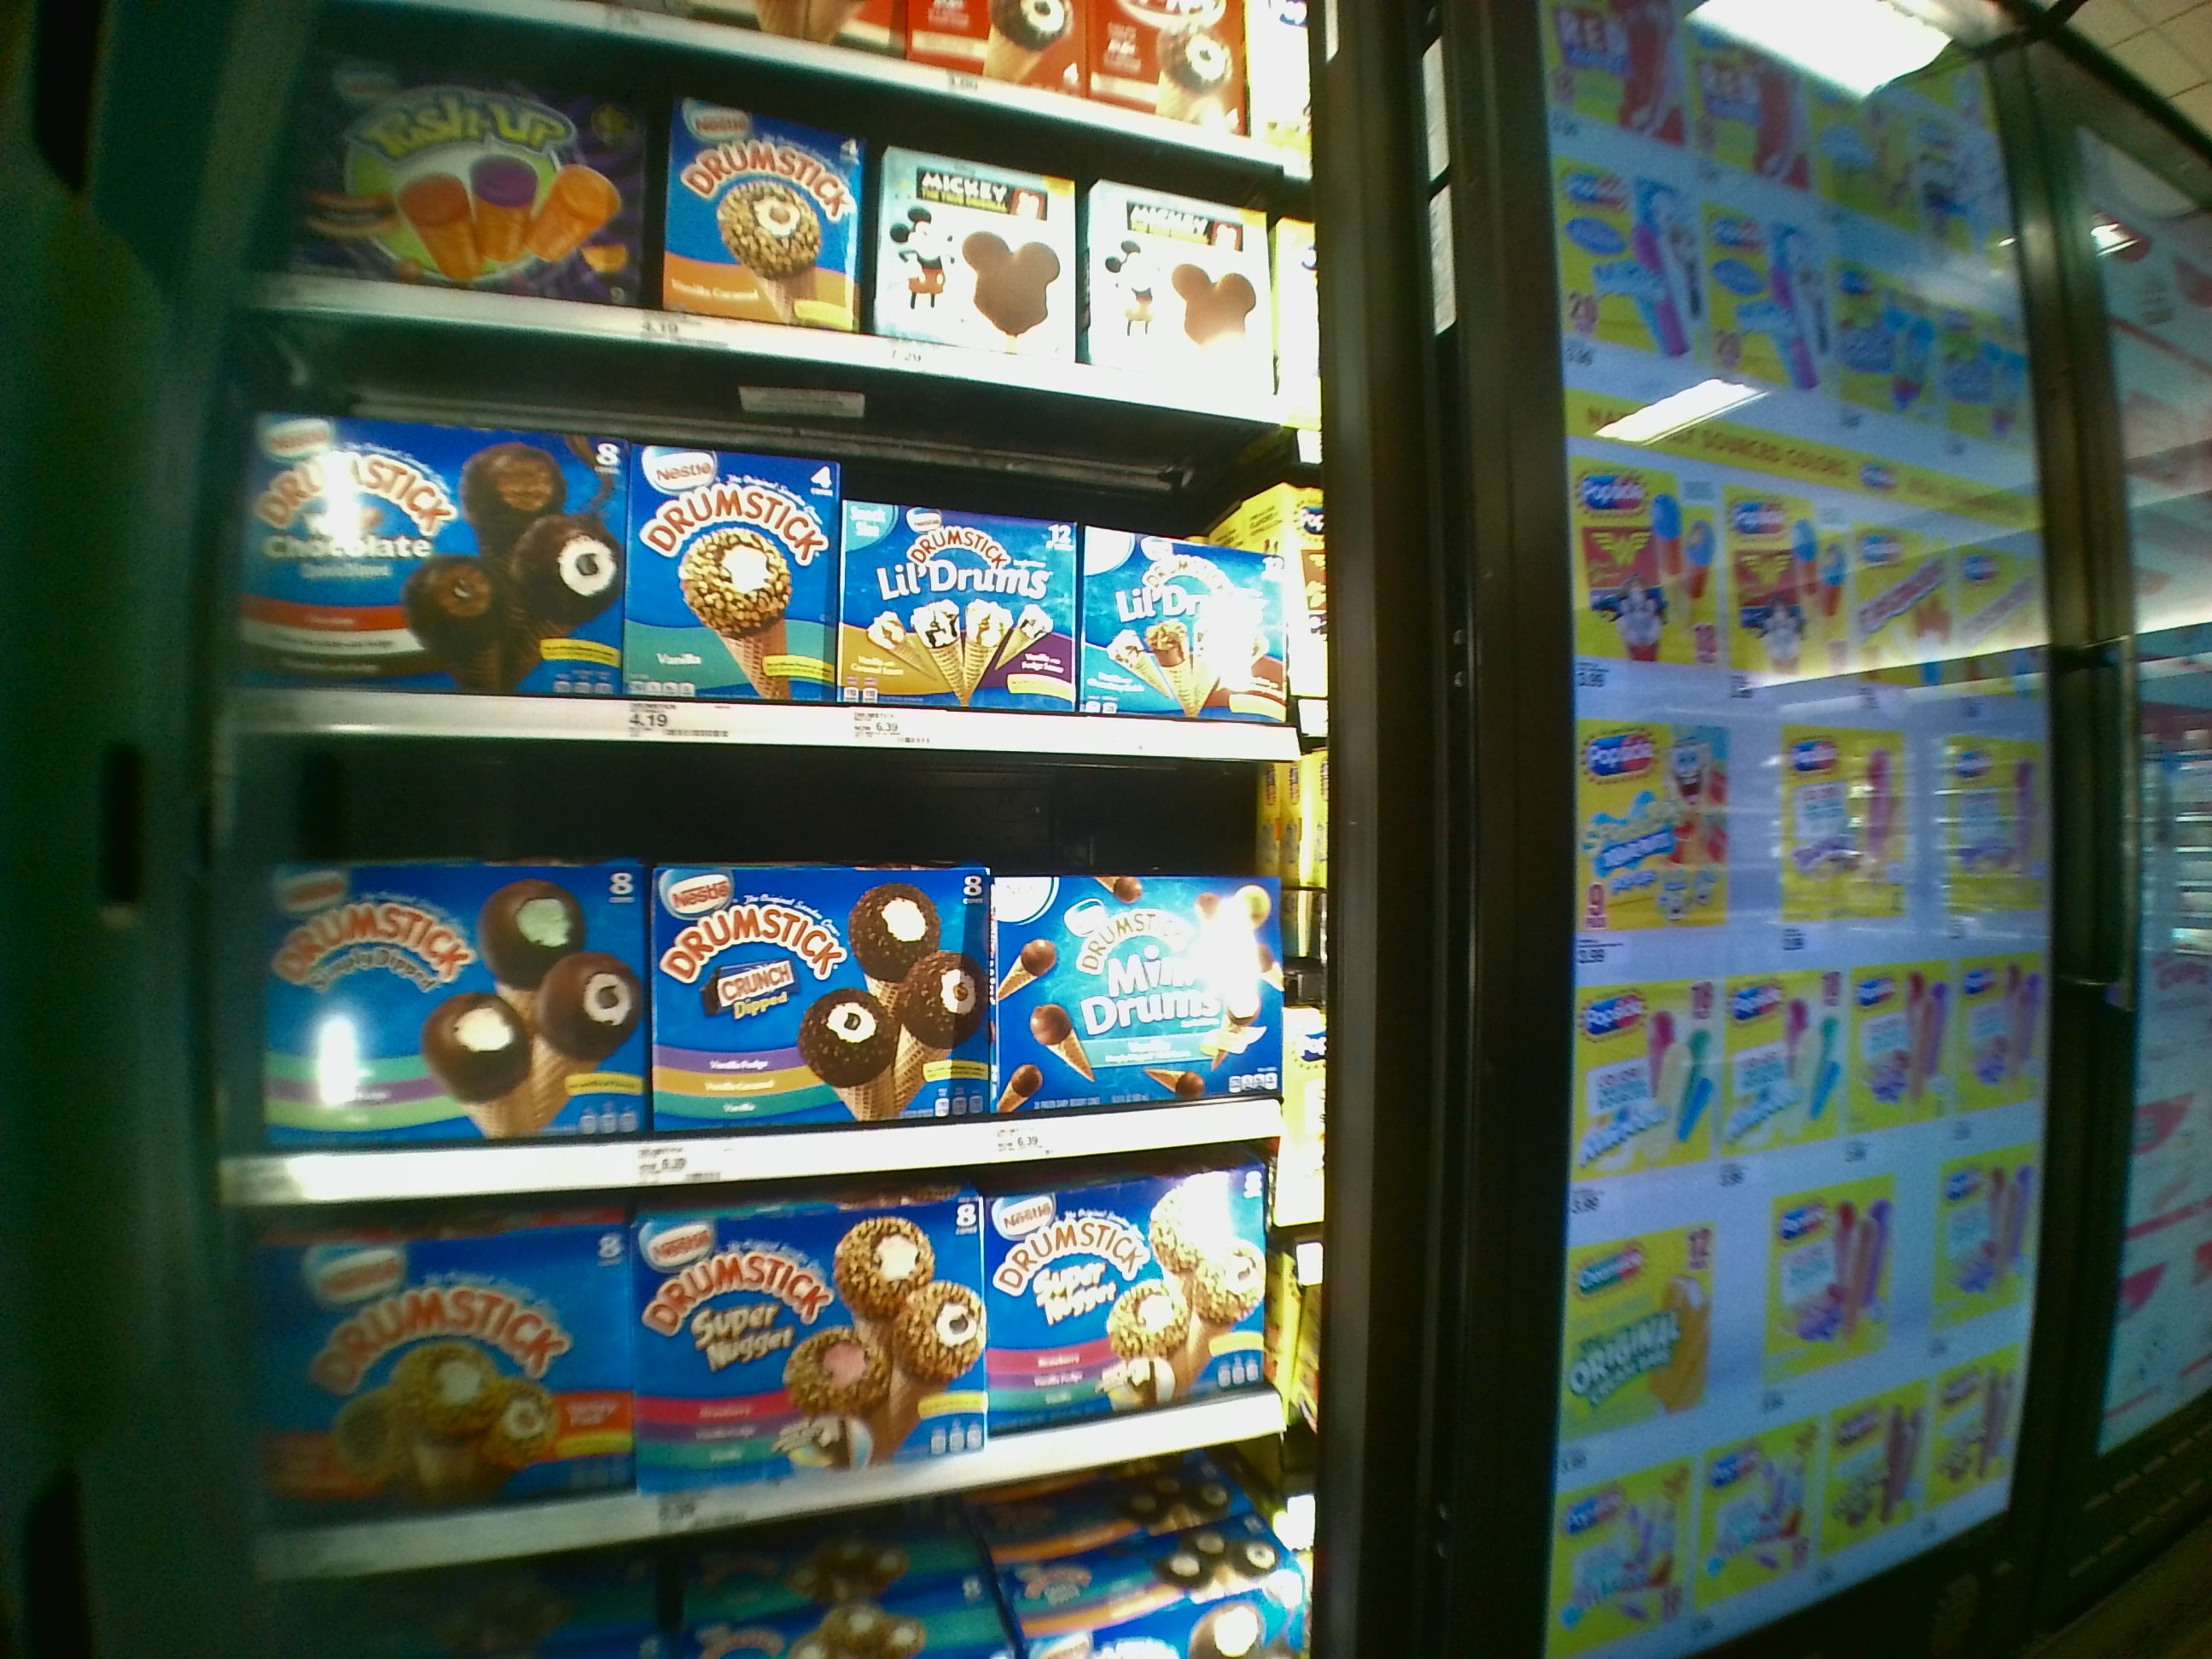shelf: (237, 753, 1318, 1166), (232, 1148, 1305, 1542), (237, 63, 1306, 423), (219, 410, 1308, 760)
